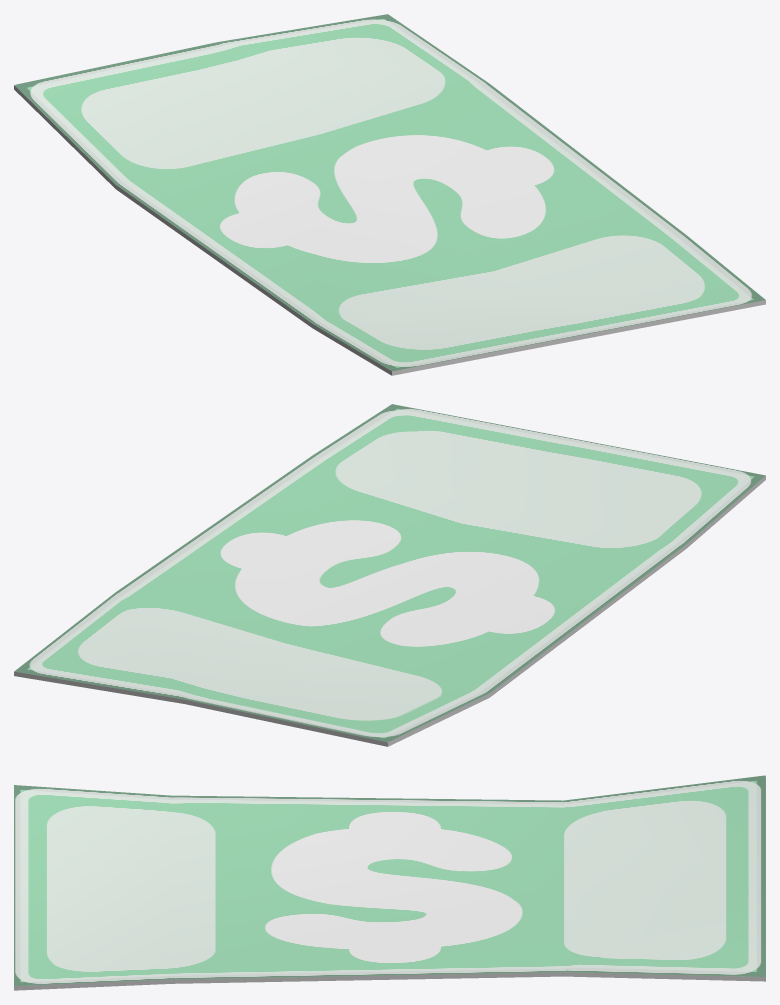
Rendered from prop_Cash01.fbx.
The picture shows the model from 3 angles, top to bottom: view 1: azimuth 30°, elevation 25°; view 2: azimuth 150°, elevation 25°; view 3: azimuth 270°, elevation 25°; orthographic projection.
Visible parts, largest first — view 1: note; view 2: note; view 3: note.
Boxes of the visible parts, x1,y1,x2,y2 form: note: (14, 14, 765, 375); note: (14, 404, 765, 746); note: (14, 775, 765, 990).
Bounding box in the file's own units: 19.54 × 1.94 × 34.22.
1 material, 1 textured.
